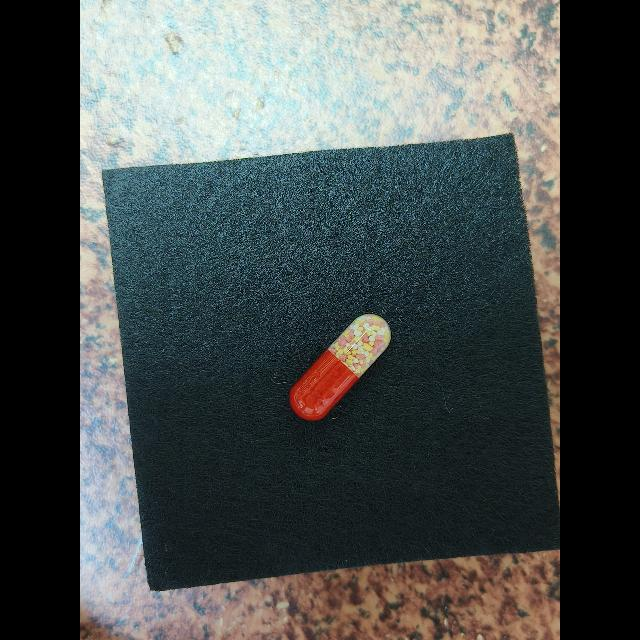Intact Capsule: (289, 314, 391, 420)
